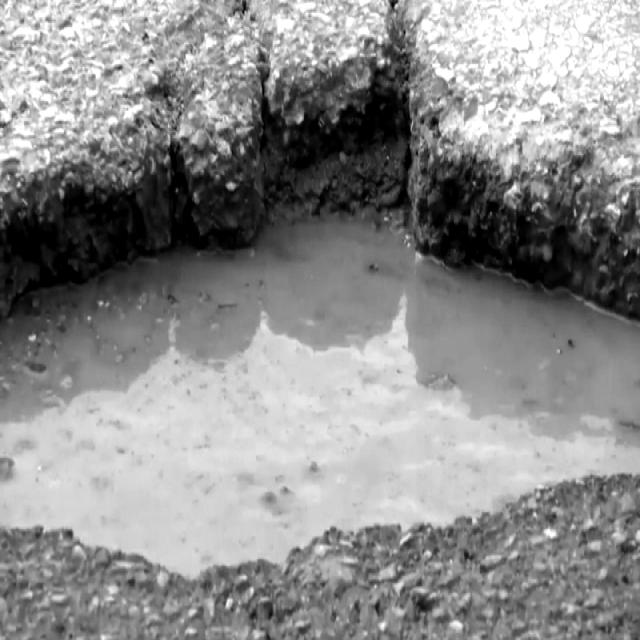pathole: (0, 65, 640, 573)
